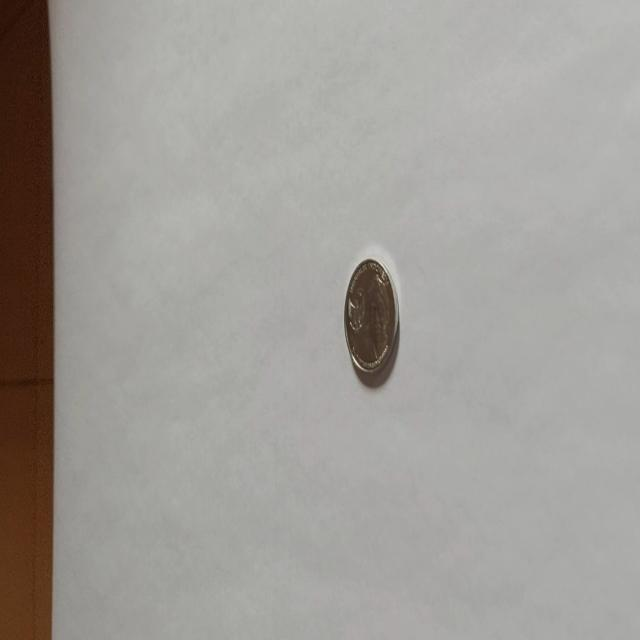dua ratus rupiah: (342, 256, 400, 380)
